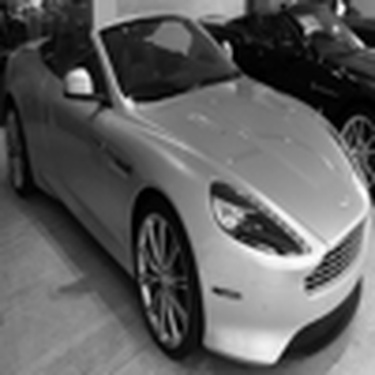car: (3, 6, 369, 372), (183, 2, 372, 201)
